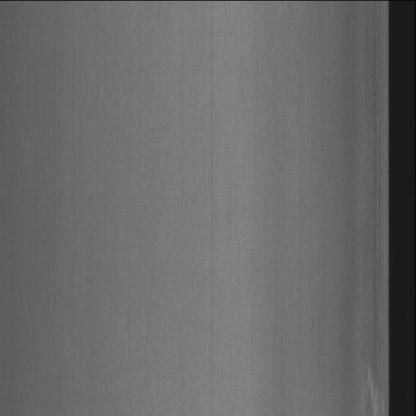silk_spot: (360, 320, 388, 416)
